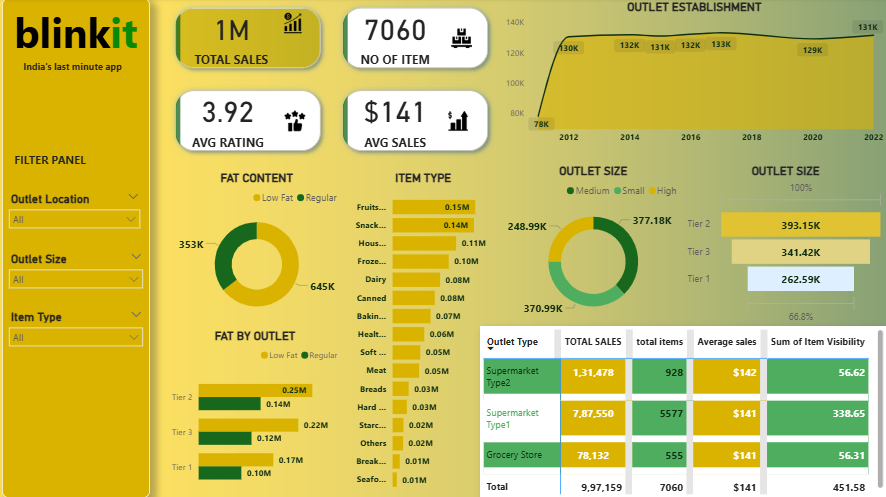

The page's visual inventory and layout, read from the dashboard file:
{"tool":"powerbi","page":{"name":"Page 1","canvas":[1280,720],"ordinal":0},"visuals":[{"type":"textbox","box":[5.8,0,213.1,720],"z":0},{"type":"cardVisual","fields":{"Data":["Sum(BlinkIT Grocery Data.Sales)","BlinkIT Grocery Data.total items","BlinkIT Grocery Data.average rating","BlinkIT Grocery Data.Average sales"]},"box":[215,0,526.7,238.3],"z":1000},{"type":"slicer","fields":{"Values":["BlinkIT Grocery Data.Item Type"]},"box":[5.8,443.5,213.1,90.7],"z":2000},{"type":"slicer","fields":{"Values":["BlinkIT Grocery Data.Outlet Location Type"]},"box":[5.8,273.6,208.8,70.6],"z":3000},{"type":"slicer","fields":{"Values":["BlinkIT Grocery Data.Outlet Size"]},"box":[5.8,360,213.1,77.8],"z":4000},{"type":"textbox","box":[31.7,85,156.7,33.3],"z":5000},{"type":"textbox","box":[18.7,217.4,132.5,38.9],"z":6000},{"type":"donutChart","title":"FAT CONTENT","fields":{"Y":["Sum(BlinkIT Grocery Data.Sales)"],"Category":["BlinkIT Grocery Data.Item Fat Content"]},"box":[248.3,246.7,250,225],"z":7000},{"type":"clusteredBarChart","title":"FAT BY OUTLET","fields":{"Category":["BlinkIT Grocery Data.Outlet Location Type"],"Y":["Sum(BlinkIT Grocery Data.Sales)"],"Series":["BlinkIT Grocery Data.Item Fat Content"]},"box":[241.7,473.3,256.7,246.7],"z":8000},{"type":"barChart","title":"ITEM TYPE","fields":{"Category":["BlinkIT Grocery Data.Item Type"],"Y":["Sum(BlinkIT Grocery Data.Sales)"]},"box":[498.3,246.7,228.3,473.3],"z":9000},{"type":"lineChart","title":"OUTLET ESTABLISHMENT","fields":{"Category":["BlinkIT Grocery Data.Outlet Establishment Year"],"Y":["BlinkIT Grocery Data.TOTAL SALES"]},"box":[726,0,554,218],"z":10000},{"type":"donutChart","title":"OUTLET SIZE","fields":{"Category":["BlinkIT Grocery Data.Outlet Size"],"Y":["Sum(BlinkIT Grocery Data.Sales)"]},"box":[727.1,235.7,260,237.1],"z":11000},{"type":"funnel","title":"OUTLET SIZE ","fields":{"Y":["Sum(BlinkIT Grocery Data.Sales)"],"Category":["BlinkIT Grocery Data.Outlet Location Type"]},"box":[987.1,235.7,292.9,237.1],"z":12000},{"type":"pivotTable","fields":{"Rows":["BlinkIT Grocery Data.Outlet Type"],"Values":["BlinkIT Grocery Data.TOTAL SALES","BlinkIT Grocery Data.total items","BlinkIT Grocery Data.Average sales","Sum(BlinkIT Grocery Data.Item Visibility)"]},"box":[694.3,472.9,585.7,247.1],"z":13000}]}

Visuals, with their boxes in screenshot pixels (x1, y1, x2, y2), scaled from the page's 1280x720 canvas onto the 886x497 screenshot:
textbox: (4, 0, 152, 496)
cardVisual - Sum(BlinkIT Grocery Data.Sales) x BlinkIT Grocery Data.total items: (149, 0, 513, 164)
slicer - BlinkIT Grocery Data.Item Type: (4, 306, 152, 369)
slicer - BlinkIT Grocery Data.Outlet Location Type: (4, 189, 149, 238)
slicer - BlinkIT Grocery Data.Outlet Size: (4, 248, 152, 302)
textbox: (22, 59, 130, 82)
textbox: (13, 150, 105, 177)
"FAT CONTENT" donutChart: (172, 170, 345, 326)
"FAT BY OUTLET" clusteredBarChart: (167, 327, 345, 496)
"ITEM TYPE" barChart: (345, 170, 503, 496)
"OUTLET ESTABLISHMENT" lineChart: (503, 0, 885, 150)
"OUTLET SIZE" donutChart: (503, 163, 683, 326)
"OUTLET SIZE " funnel: (683, 163, 885, 326)
pivotTable - BlinkIT Grocery Data.Outlet Type x BlinkIT Grocery Data.TOTAL SALES: (481, 326, 885, 496)
